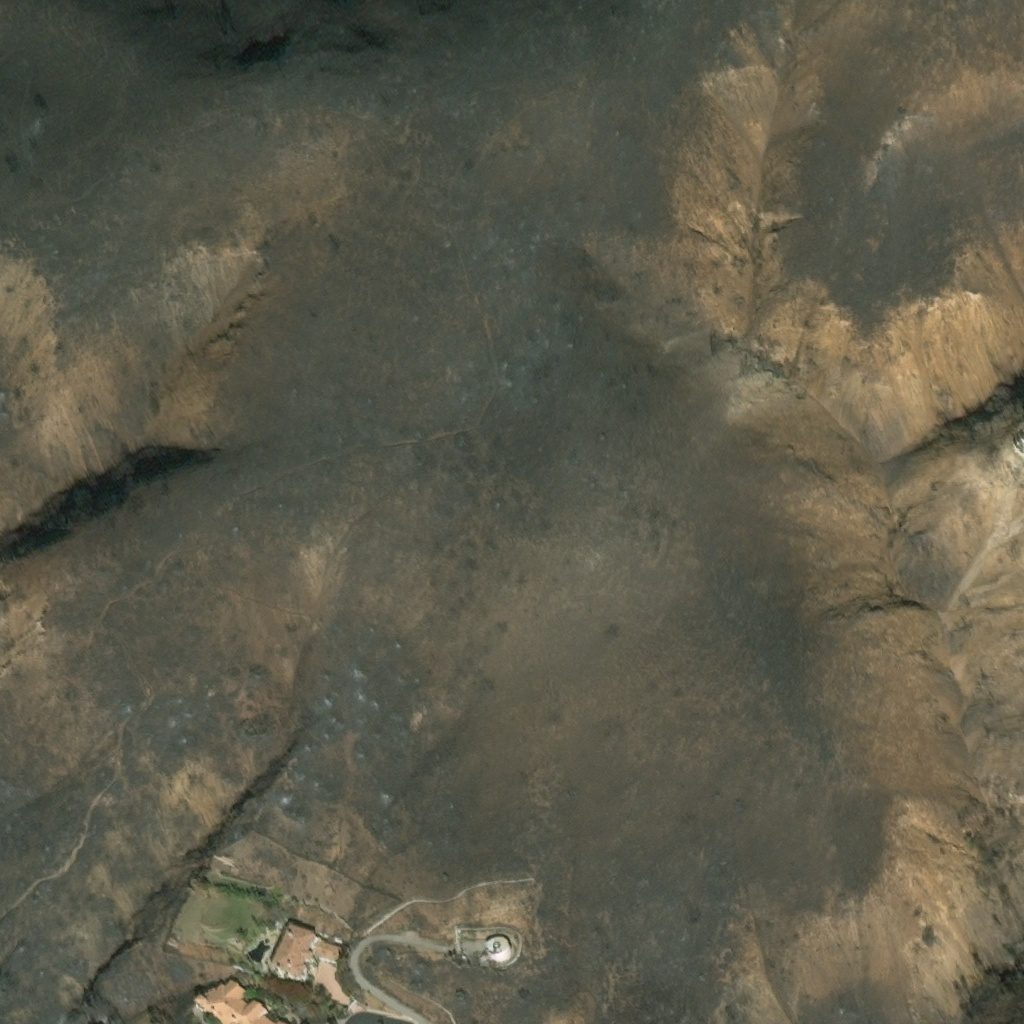0 no-damage: (192, 974, 287, 1023), (270, 923, 315, 981)
